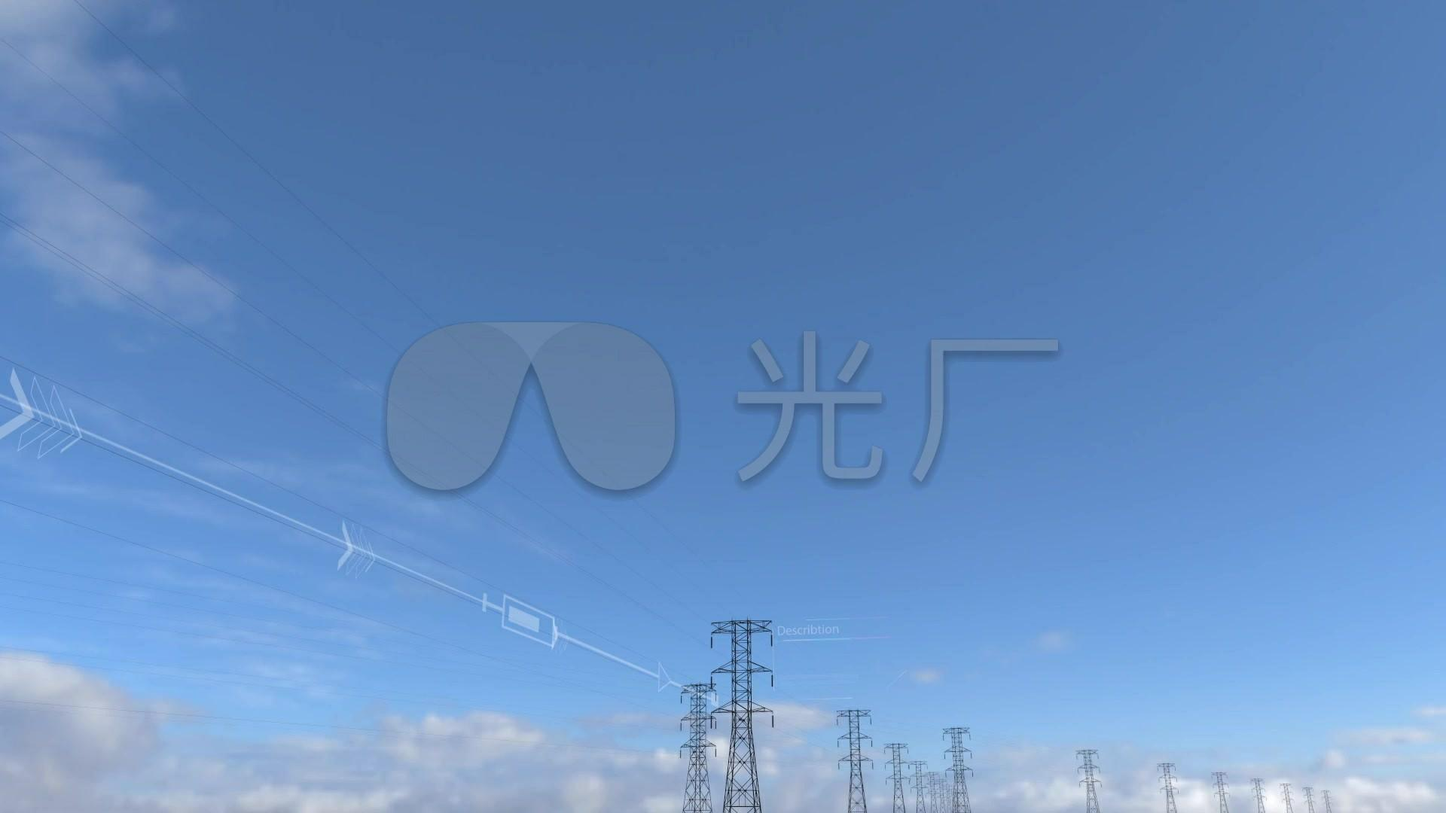power_tower: (703, 613, 798, 812), (678, 680, 722, 812), (835, 705, 877, 813), (938, 726, 984, 813), (1077, 745, 1115, 813), (1154, 757, 1200, 813), (880, 739, 911, 813), (902, 755, 931, 813), (1208, 766, 1233, 813), (1246, 772, 1268, 813), (1299, 781, 1317, 813), (1320, 783, 1337, 813), (1277, 781, 1292, 813)
